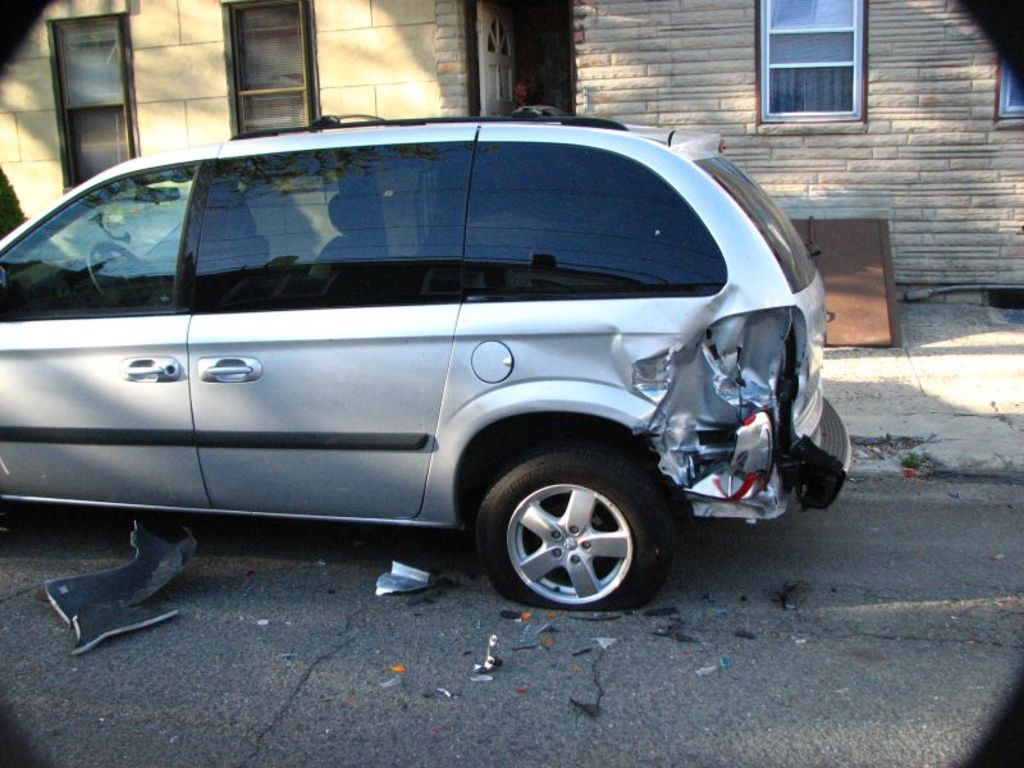Car: (6, 108, 862, 637)
